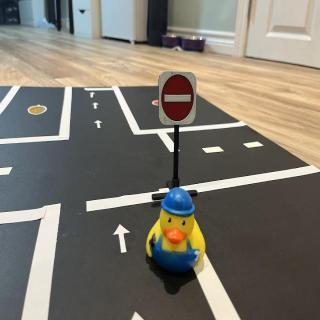duck_specialty: (147, 189, 209, 274)
road_oneway: (112, 220, 132, 259), (93, 117, 104, 131), (93, 101, 102, 113), (89, 93, 97, 102)
sign_noentry: (159, 71, 197, 127)
